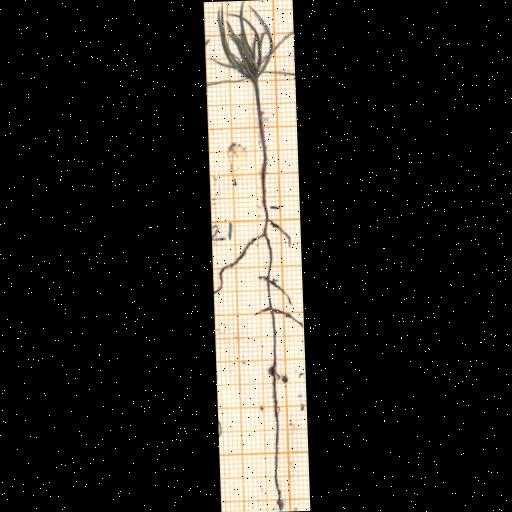flowerPinus: (206, 1, 294, 86)
rootPinus: (212, 209, 301, 506)
stemPinus: (256, 85, 268, 215)
